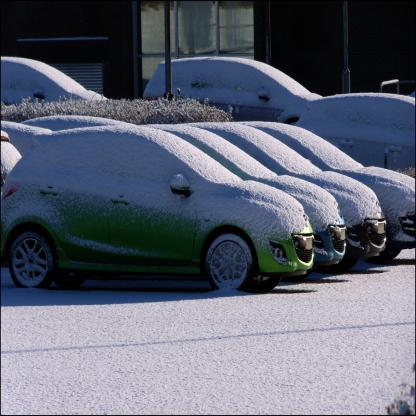Car: (0, 56, 416, 293)
